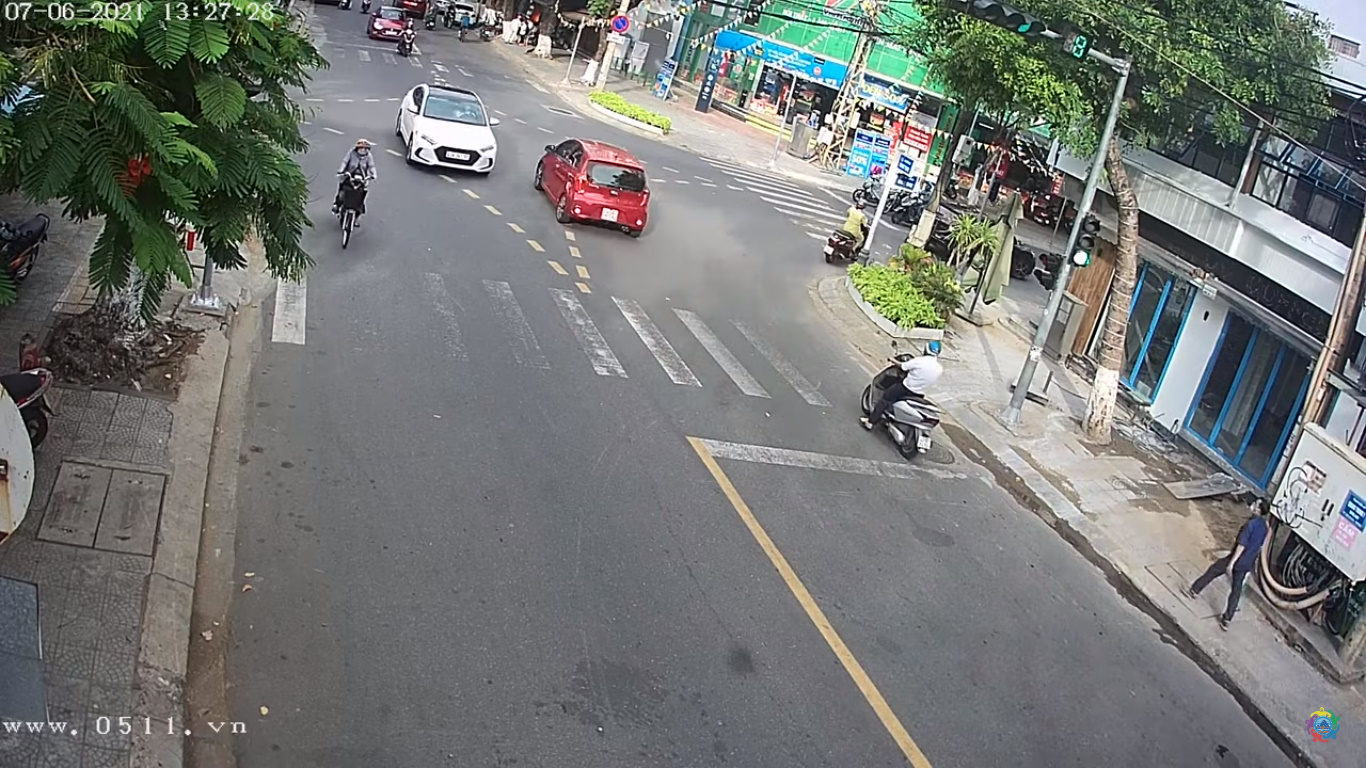car: (393, 83, 497, 176)
motorbike: (331, 146, 381, 242)
